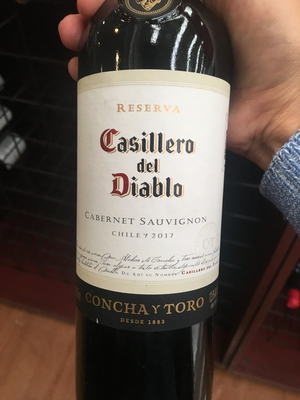casillero del diablo cabernet sauvignon: (67, 2, 237, 400)
